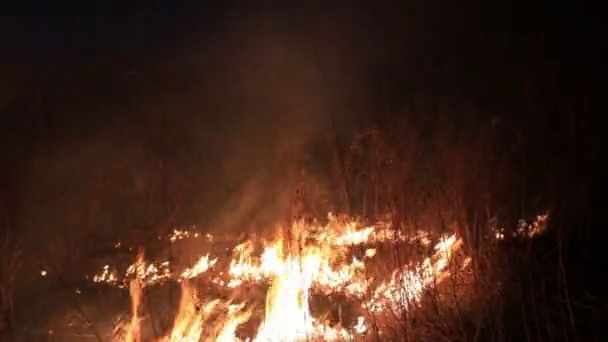fire: (257, 214, 383, 342), (360, 232, 463, 310), (166, 283, 253, 342), (94, 258, 170, 283), (226, 239, 259, 289), (179, 254, 212, 277), (171, 228, 187, 239)
